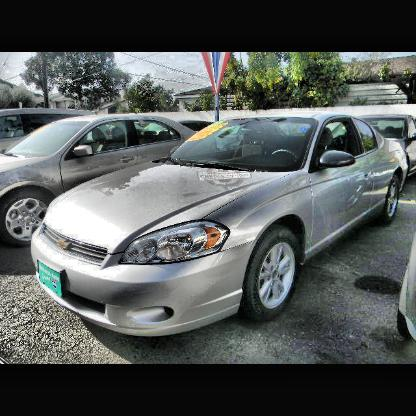Chevrolet Monte Carlo Coupe 2007: (28, 112, 414, 341)
